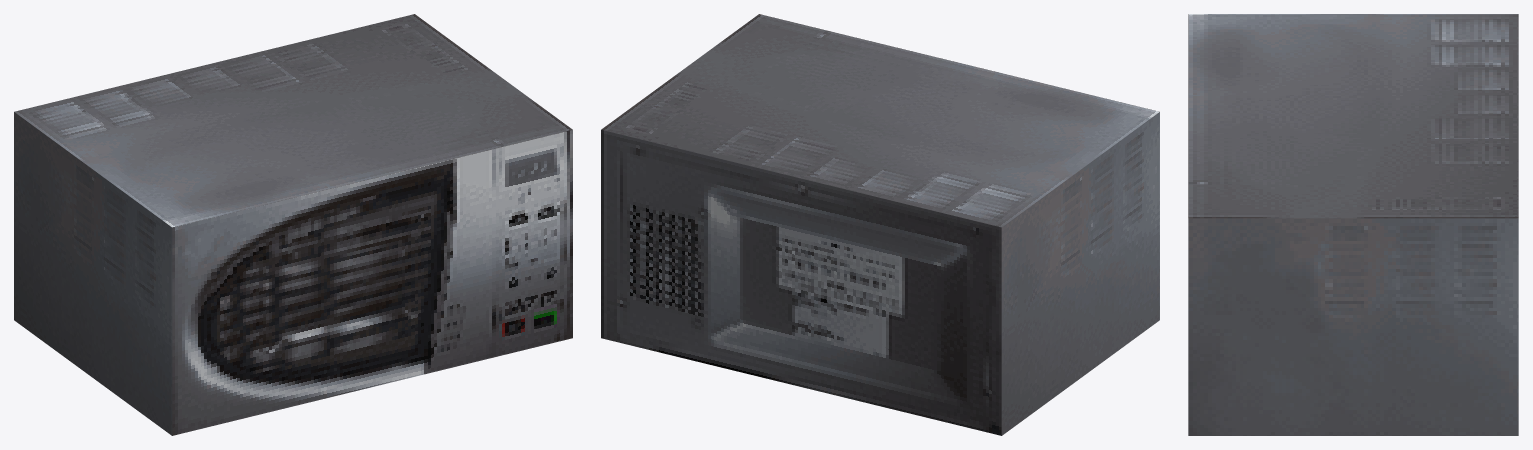
The model's file is microwave.glb.
3 views of the same model, side by side, from view 1: azimuth 30°, elevation 25°; view 2: azimuth 150°, elevation 25°; view 3: azimuth 270°, elevation 25° (orthographic). The views are drawn at different scales.
Visible parts, largest first — view 1: SM_PSX_Microwave_0; view 2: SM_PSX_Microwave_0; view 3: SM_PSX_Microwave_0.
Boxes of the visible parts, left/top/right/bottom form: SM_PSX_Microwave_0: left=14, top=14, right=572, bottom=435; SM_PSX_Microwave_0: left=601, top=14, right=1159, bottom=435; SM_PSX_Microwave_0: left=1188, top=14, right=1518, bottom=435.
Size of the model in its own units: 0.897 by 0.4459 by 0.613.
1 material, 1 textured.
